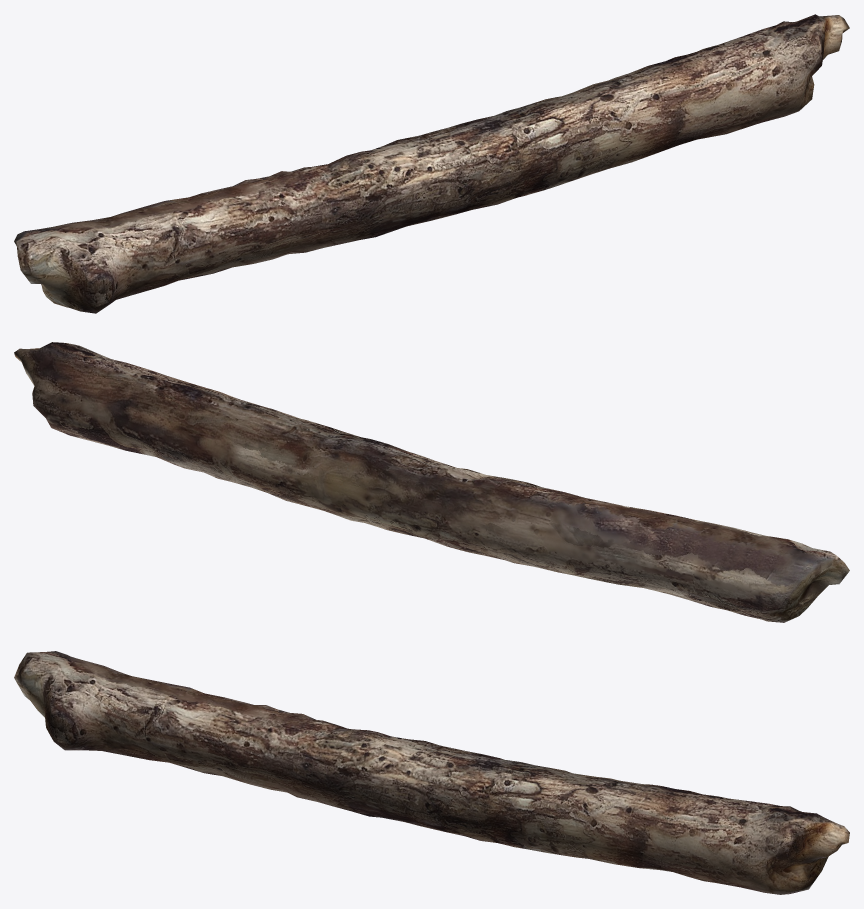
Rendered from wood piece.fbx.
The picture shows the model from 3 angles, top to bottom: view 1: azimuth 30°, elevation 25°; view 2: azimuth 150°, elevation 25°; view 3: azimuth 330°, elevation 25°; orthographic projection. The views are drawn at different scales.
Visible parts, largest first — view 1: wood_piece; view 2: wood_piece; view 3: wood_piece.
Boxes of the visible parts, x1,y1,x2,y2 form: wood_piece: [14, 14, 849, 313]; wood_piece: [14, 342, 849, 622]; wood_piece: [14, 651, 849, 894].
Size of the model in its own units: 23.1 by 2.81 by 2.38.
1 material, 1 textured.
